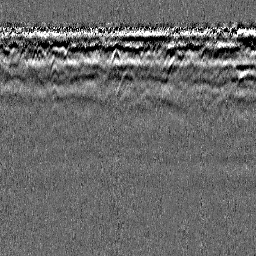cavity: (115, 68, 139, 98)
